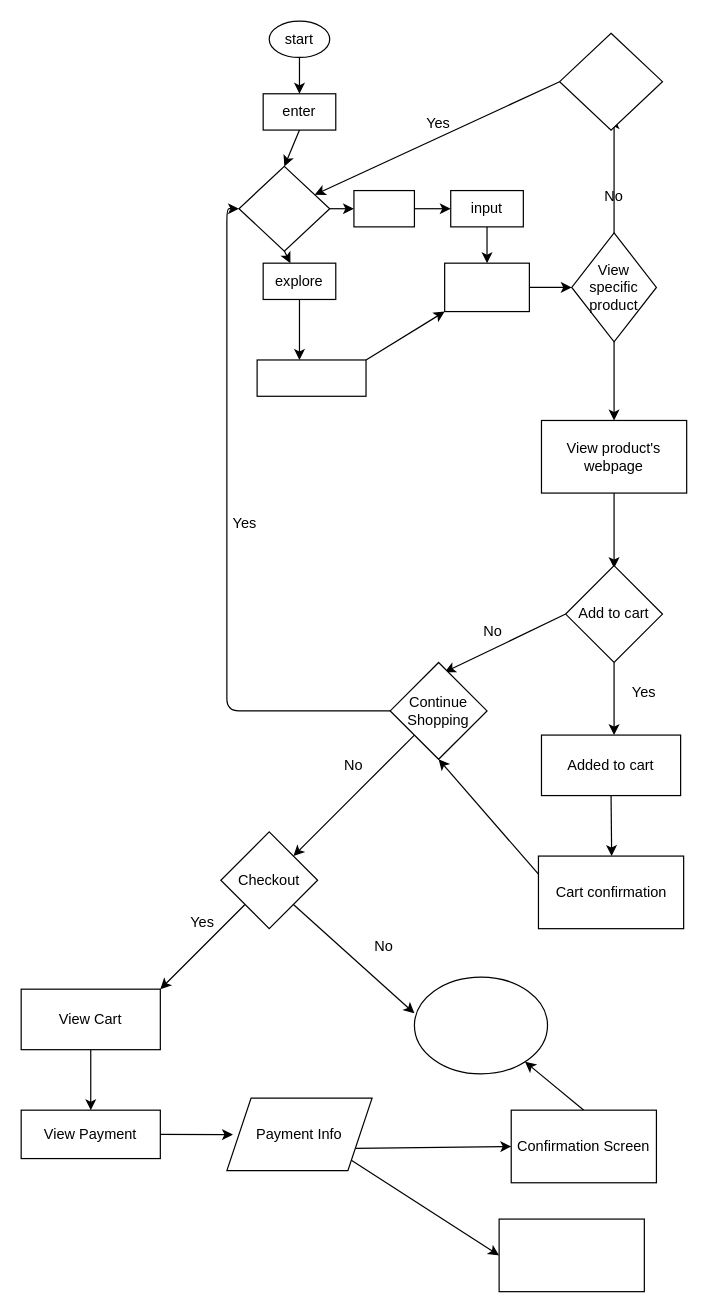
This 708x1313 diagram has some shape labels left out. The shapes that lost their labels are listed below. From the top down, each one's centre as x and y in pixels, then its label:
(x=610, y=81): Continue Shopping?
(x=284, y=208): search/explore
(x=383, y=208): search
(x=486, y=287): view product
(x=311, y=377): product webpage
(x=480, y=1025): Leave
(x=571, y=1255): Email Confirmation
